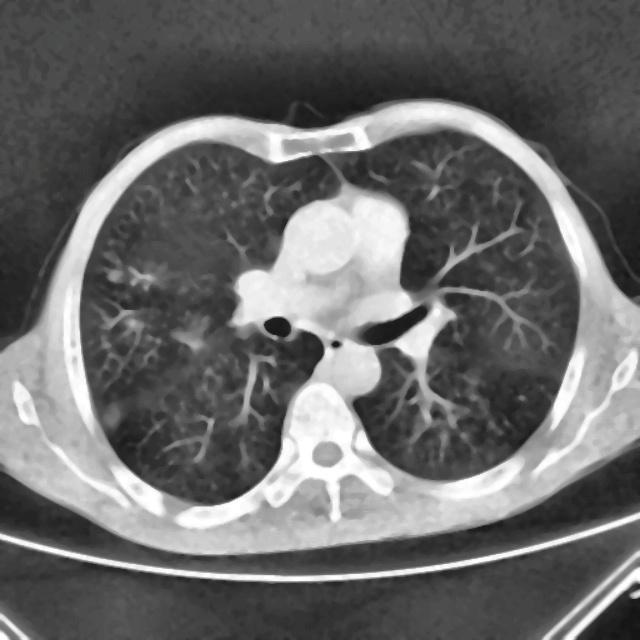covid: (1, 96, 638, 558)
